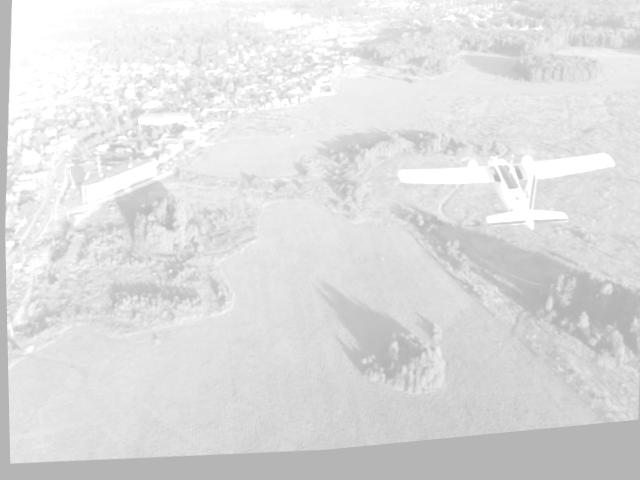hedef: (392, 144, 619, 263)
